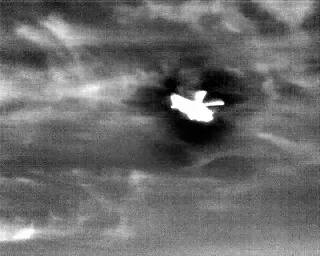HELICOPTER: (168, 83, 228, 128)
